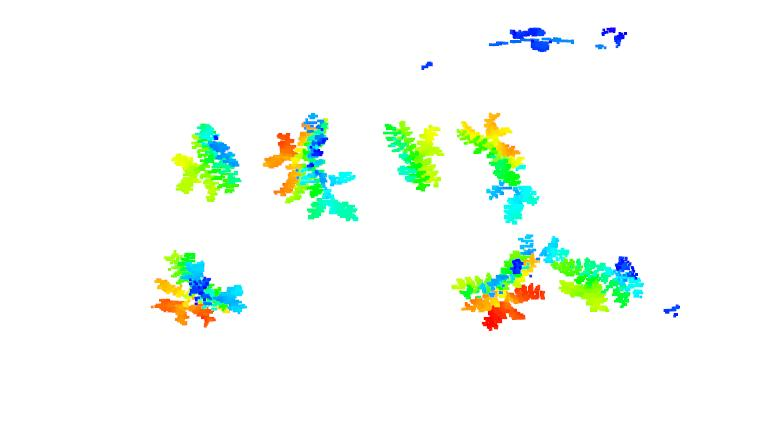chickpea: (260, 112, 363, 223), (452, 108, 541, 226), (454, 233, 544, 333), (535, 235, 647, 315), (149, 247, 250, 331), (170, 119, 243, 203), (380, 115, 448, 194)
